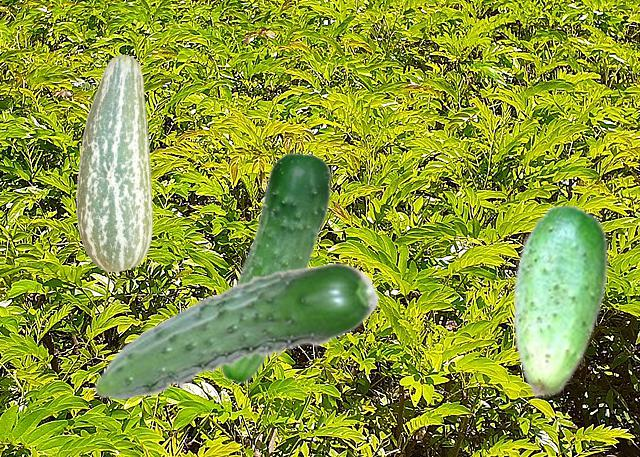cucumber: (93, 262, 379, 399), (219, 152, 331, 383), (512, 203, 607, 397), (76, 54, 152, 271)
